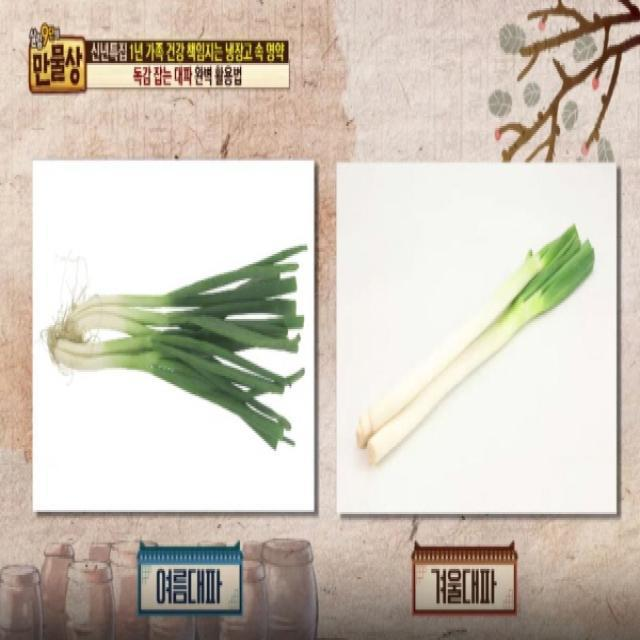green_onion: (49, 239, 306, 459)
